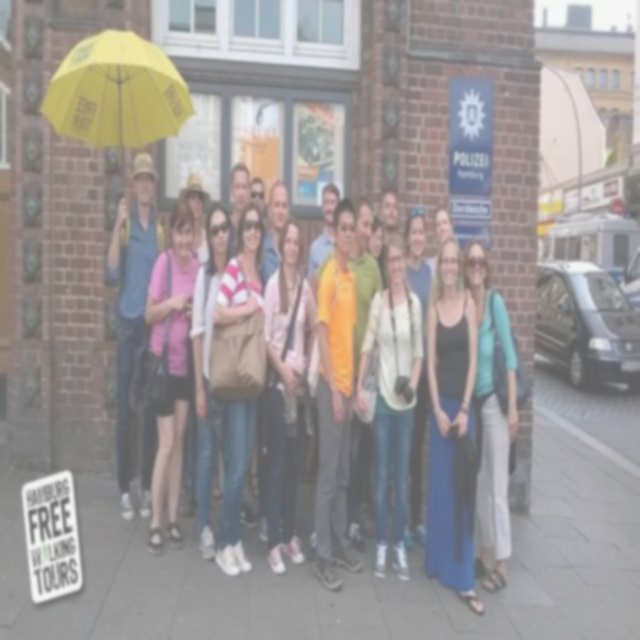pessoa: (302, 195, 386, 562), (350, 227, 426, 588), (128, 193, 200, 558), (462, 239, 531, 593), (424, 232, 486, 617), (104, 146, 167, 523), (208, 200, 268, 578), (311, 195, 364, 594), (262, 216, 320, 576), (255, 177, 305, 546), (189, 198, 232, 562), (175, 171, 213, 518), (402, 202, 436, 550), (363, 178, 409, 296), (421, 204, 464, 293), (306, 180, 340, 280), (566, 270, 619, 320), (227, 160, 252, 259), (242, 173, 266, 234), (248, 422, 260, 510)
